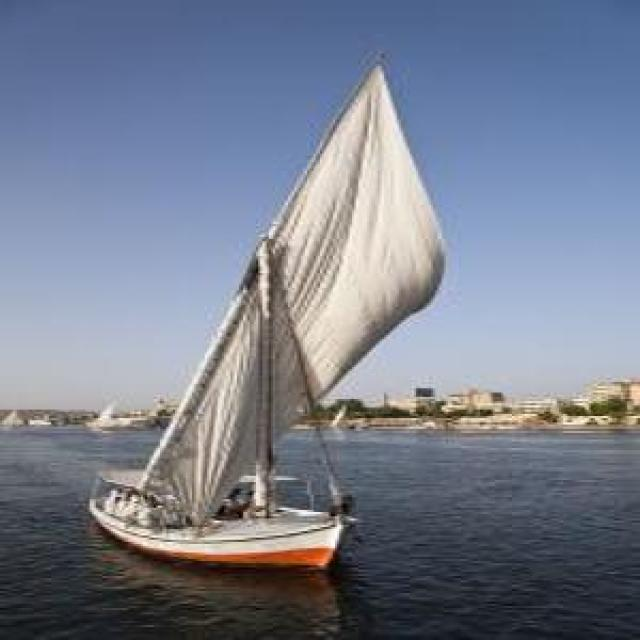sailboat: (76, 51, 441, 572)
